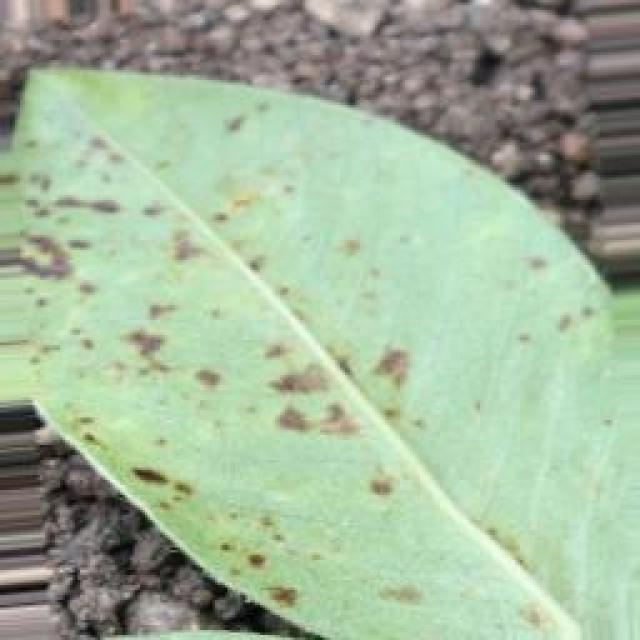Whitefly: (0, 36, 482, 565)
